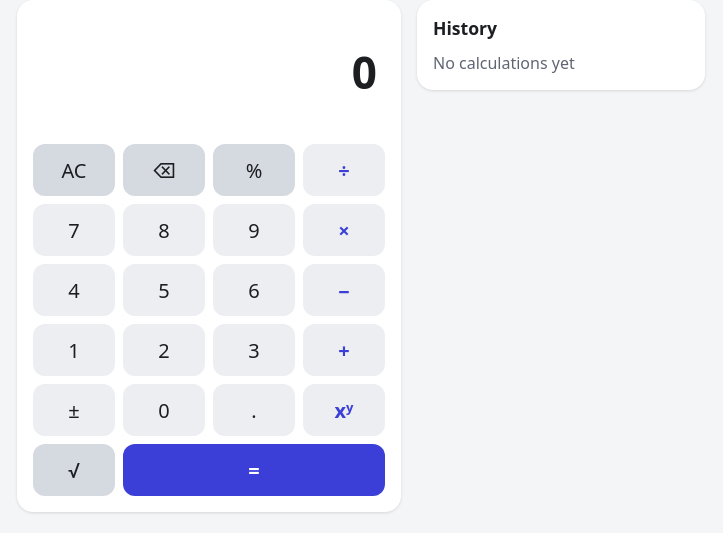
Test: Calculator › lets Enter activate the focused key instead of pressing equals
Click the button "2": (164, 350) [123, 324, 205, 376]
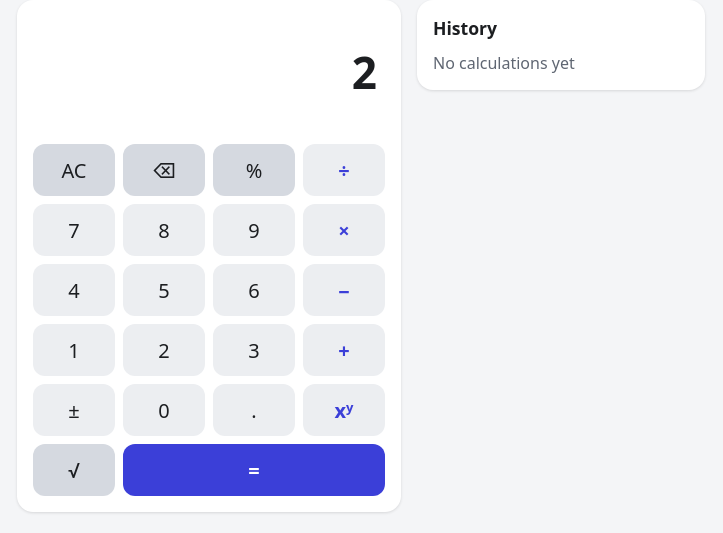
Click the button named "plus": (344, 350) [303, 324, 385, 376]
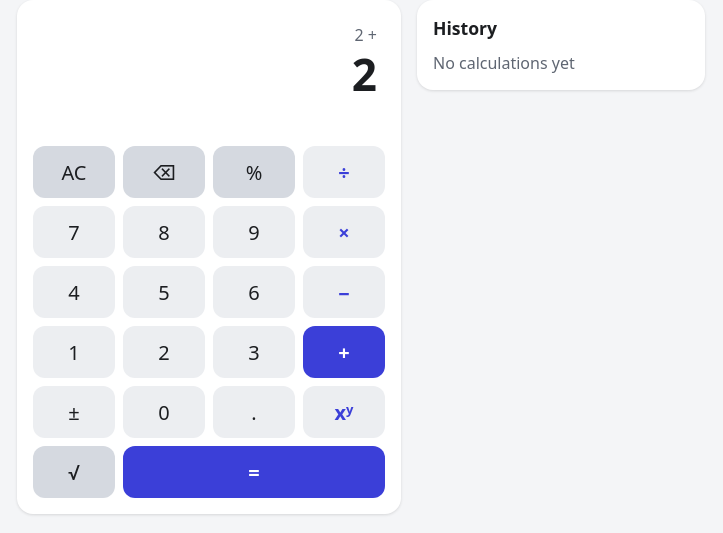
Click the button "3": (254, 352) [213, 326, 295, 378]
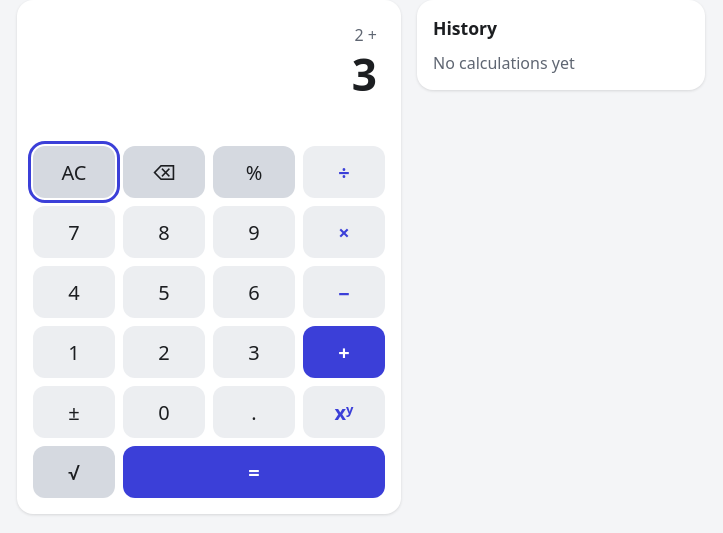
Press Enter
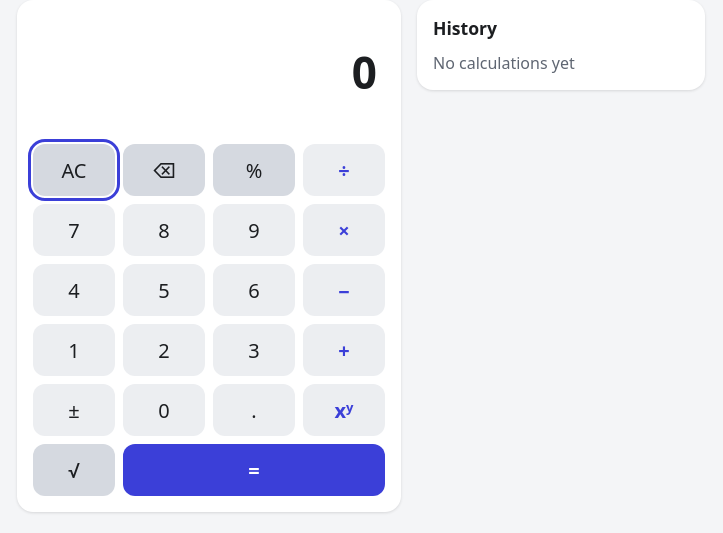
Check: the text "0" is shown, box [352, 48, 377, 96]
